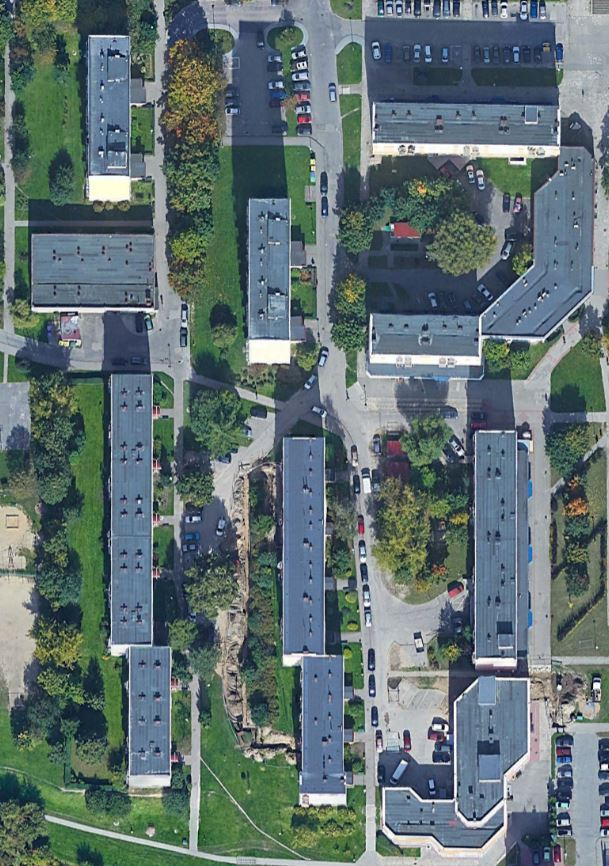block of flats: (97, 362, 179, 806), (264, 427, 355, 808), (370, 663, 534, 864), (472, 136, 608, 355), (466, 421, 539, 672), (360, 93, 571, 171), (234, 188, 307, 373), (73, 24, 143, 208), (361, 301, 494, 390)
shopping_center: (27, 214, 165, 324)
